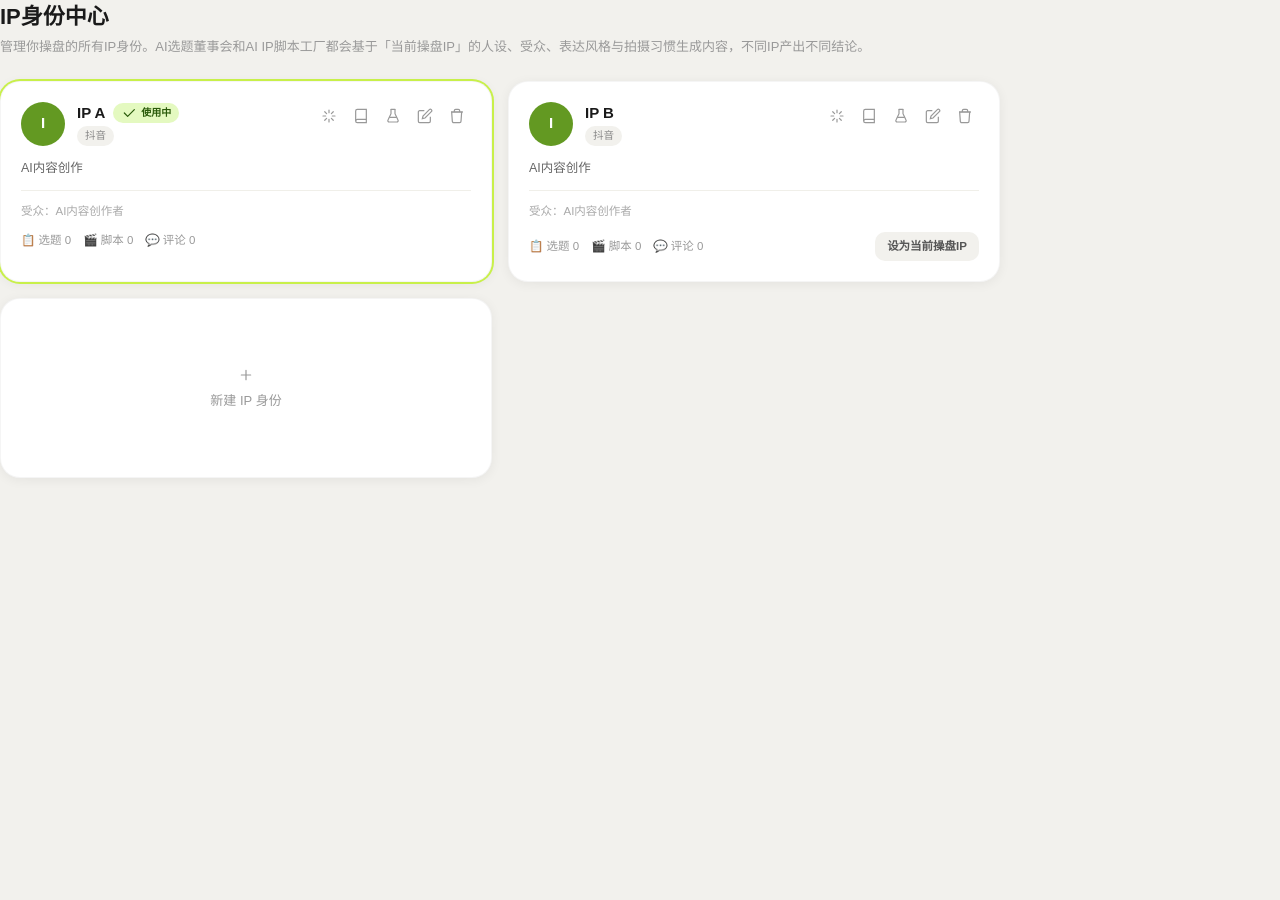
Test: 具体名称出现超过3次时明确说明原因并禁止保存
Click the button titled "专属编导规则" next to "使用中" at (329, 116), box [315,102,343,130]
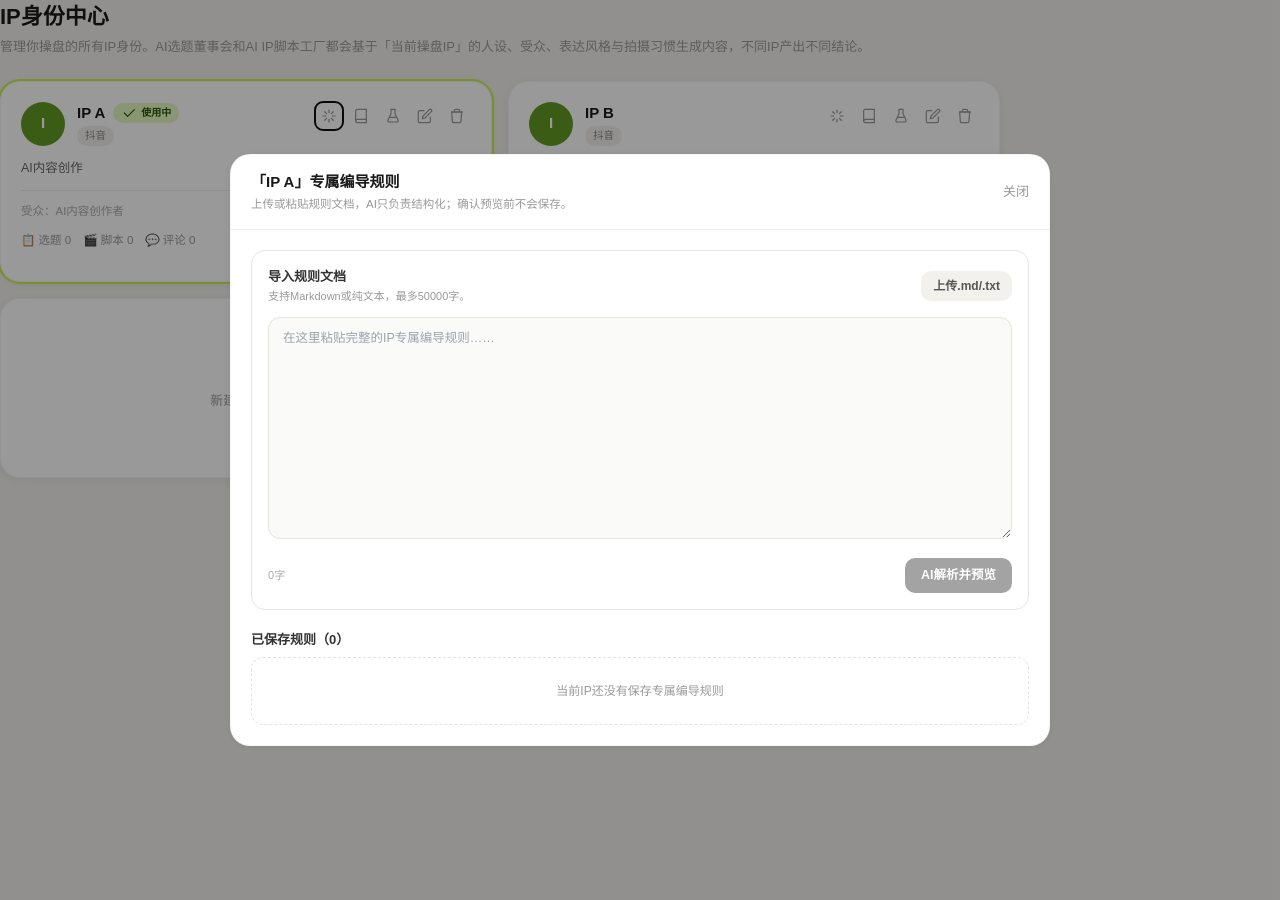
Type "胖东来演示标题。胖东来演示开头。胖东来演示正文。胖东来不是本次创作素材。" into the text box named "规则文档内容" at (640, 428), box [268,317,1012,539]
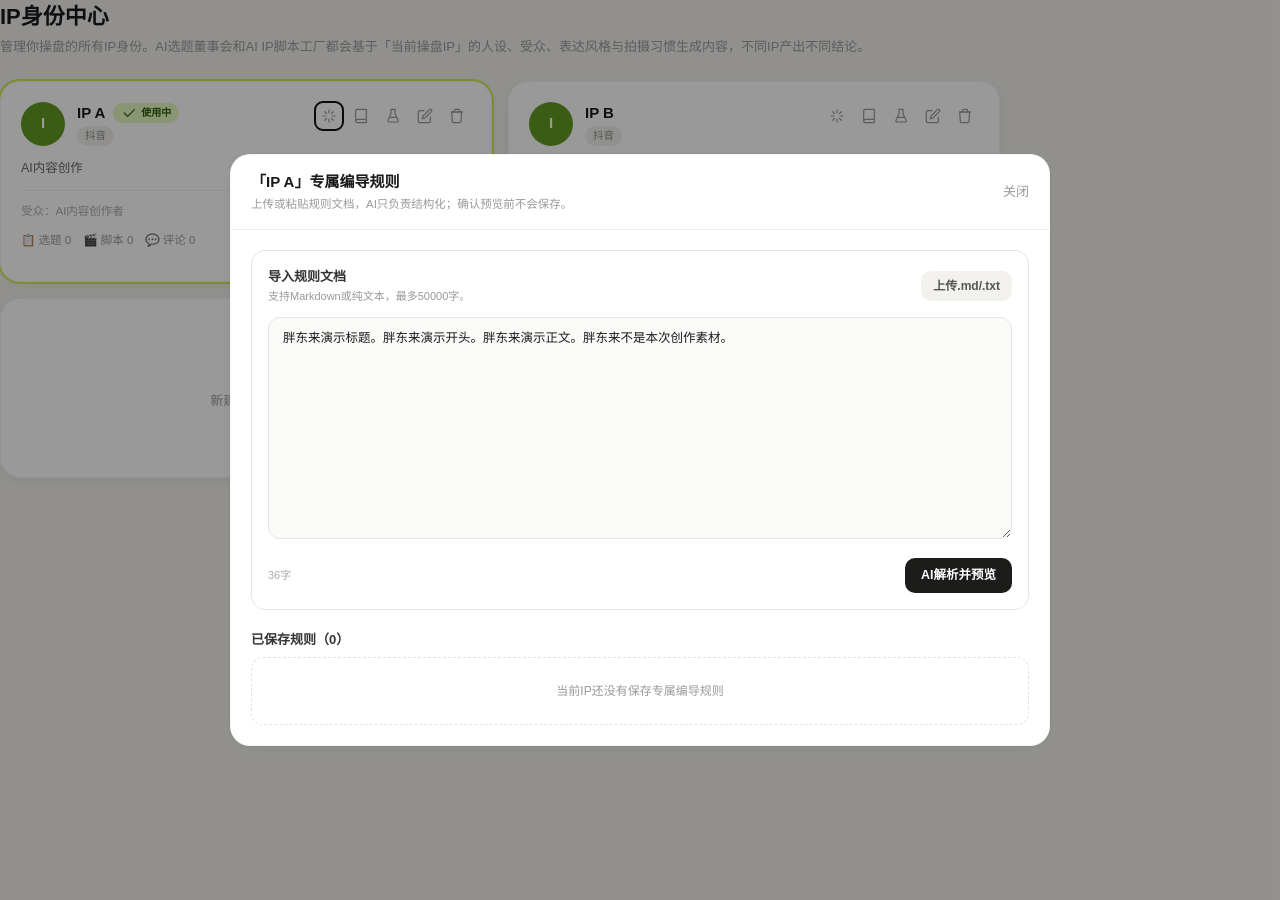
Click the button "AI解析并预览" at (958, 575), box [905,558,1012,593]
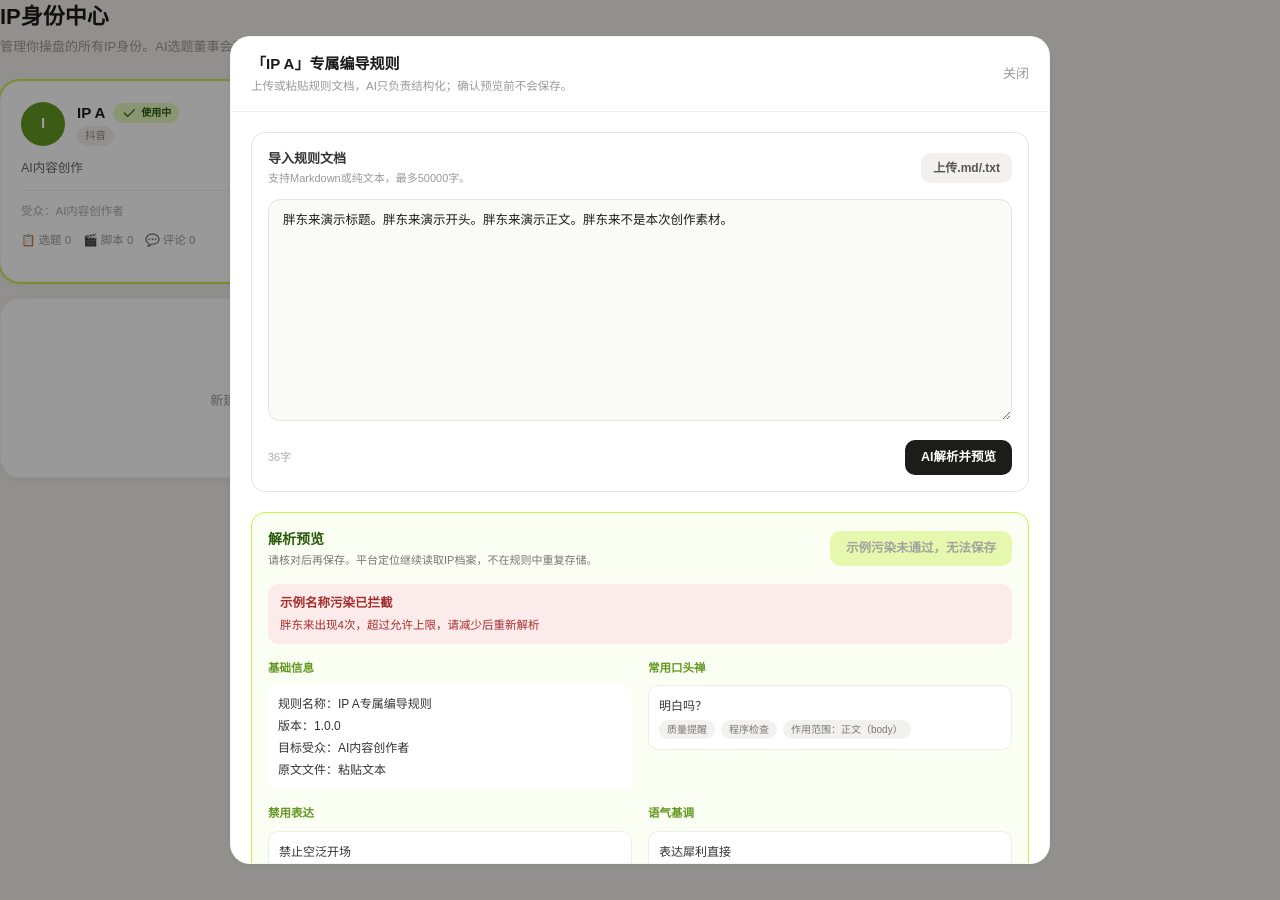
Expected: the text "示例名称污染已拦截" is shown, [280,596,392,610]
Expected: the text "胖东来出现4次，超过允许上限，请减少后重新解析" is shown, [280,619,539,631]
